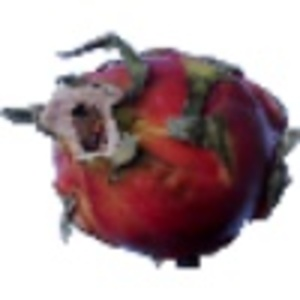pitaia: (1, 30, 300, 270)
